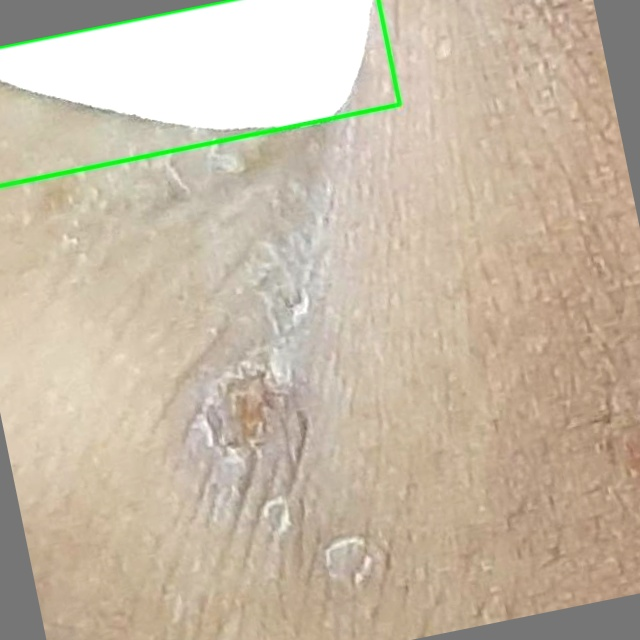Scabies: (0, 0, 399, 185)
